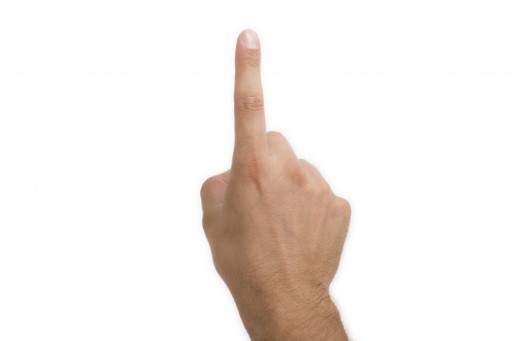move: (201, 28, 351, 302)
